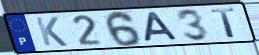2: (71, 14, 104, 47)
3: (175, 7, 210, 42)
6: (103, 9, 144, 48)
A: (144, 11, 181, 43)
K: (33, 16, 70, 47)
T: (209, 7, 238, 39)
